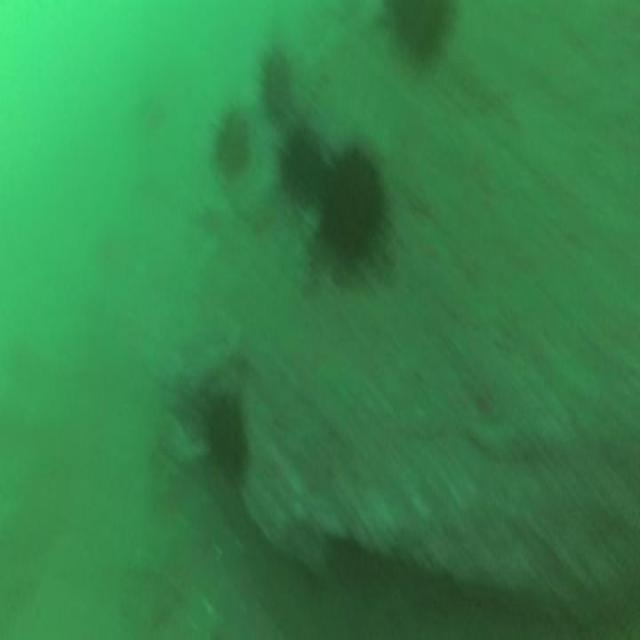holothurian: (319, 139, 390, 285), (191, 375, 256, 496), (379, 0, 465, 81), (271, 112, 336, 215), (204, 90, 258, 190), (251, 35, 301, 126)
